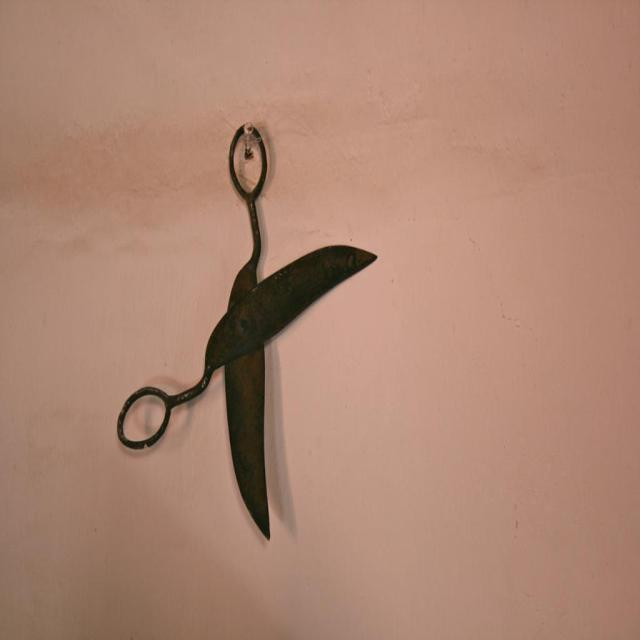scissors: (116, 120, 377, 540)
